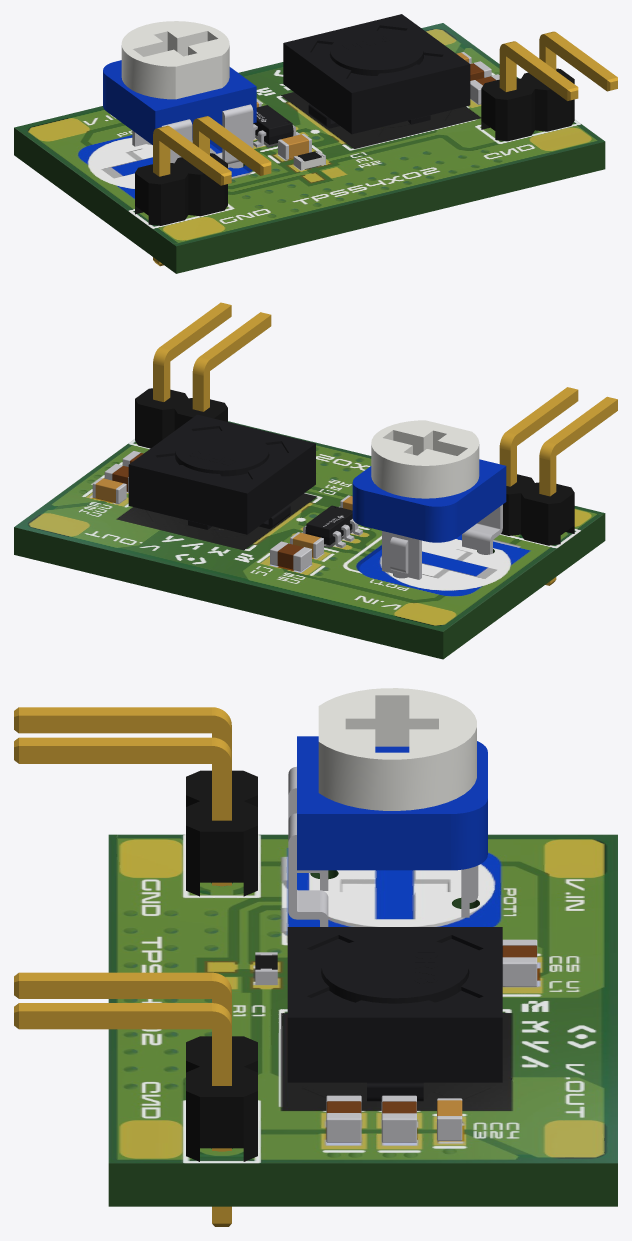
The model's file is eml01.glb.
The picture shows the model from 3 angles, top to bottom: view 1: azimuth 30°, elevation 25°; view 2: azimuth 150°, elevation 25°; view 3: azimuth 270°, elevation 25°; orthographic projection. The views are drawn at different scales.
Visible parts, largest first — view 1: Board:Open CASCADE STEP translator 7.5 3.1.1, L1:Cooper Bussman DR73 Series Inductor, POT1: (×4), J1:PLS-1R (×2), J2:PLS-1R (×2), U1:body, C1:Open CASCADE STEP translator 6.8 3.2.1; view 2: Board:Open CASCADE STEP translator 7.5 3.1.1, POT1: (×4), L1:Cooper Bussman DR73 Series Inductor, J1:PLS-1R (×2), J2:PLS-1R (×2), U1:body; view 3: Board:Open CASCADE STEP translator 7.5 3.1.1, POT1: (×4), L1:Cooper Bussman DR73 Series Inductor, J2:PLS-1R (×2), J1:PLS-1R (×2), C2:, C5:, C3:.
Boxes of the visible parts, box(x1,y1,x2,y2) form: Board:Open CASCADE STEP translator 7.5 3.1.1: box(14, 23, 605, 273); L1:Cooper Bussman DR73 Series Inductor: box(283, 14, 470, 134); POT1: (×4): box(103, 21, 256, 168); J1:PLS-1R (×2): box(135, 116, 271, 266); J2:PLS-1R (×2): box(481, 31, 617, 141); U1:body: box(253, 105, 293, 144); C1:Open CASCADE STEP translator 6.8 3.2.1: box(281, 134, 308, 159); Board:Open CASCADE STEP translator 7.5 3.1.1: box(14, 421, 605, 659); POT1: (×4): box(352, 420, 506, 579); L1:Cooper Bussman DR73 Series Inductor: box(128, 414, 315, 534); J1:PLS-1R (×2): box(499, 387, 617, 585); J2:PLS-1R (×2): box(135, 302, 271, 448); U1:body: box(305, 505, 352, 545); Board:Open CASCADE STEP translator 7.5 3.1.1: box(108, 834, 617, 1206); POT1: (×4): box(288, 688, 487, 926); L1:Cooper Bussman DR73 Series Inductor: box(287, 927, 502, 1101); J2:PLS-1R (×2): box(14, 972, 257, 1226); J1:PLS-1R (×2): box(14, 707, 257, 896); C2:: box(381, 1113, 416, 1142); C5:: box(502, 957, 537, 986); C3:: box(326, 1113, 361, 1142).
Bounding box in the file's own units: 0.0275 × 0.0109 × 0.0213.
Materials: 16 (2 with a texture image).
